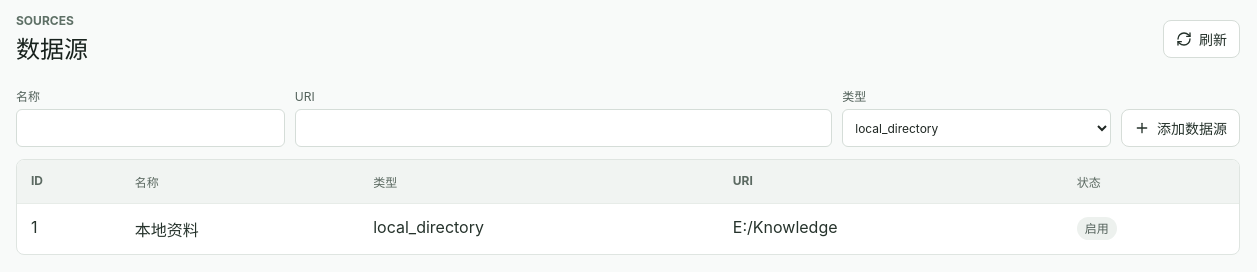
SourcesView 数据源页 › 加载真实数据源，并允许创建新的本地数据源
Expected: the text "本地资料" is shown, [121,204,359,254]
Type "Obsidian" into the field labelled "名称" at (150,128), box [16,109,285,147]
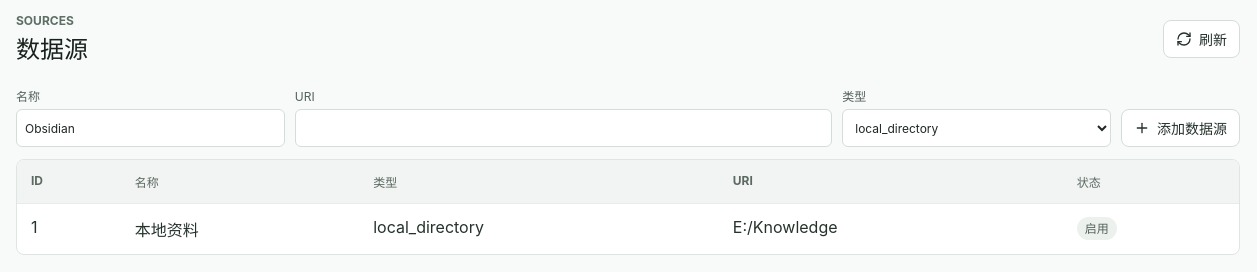
Type "E:/Vault" into the field labelled "URI" at (564,128), box [295,109,832,147]
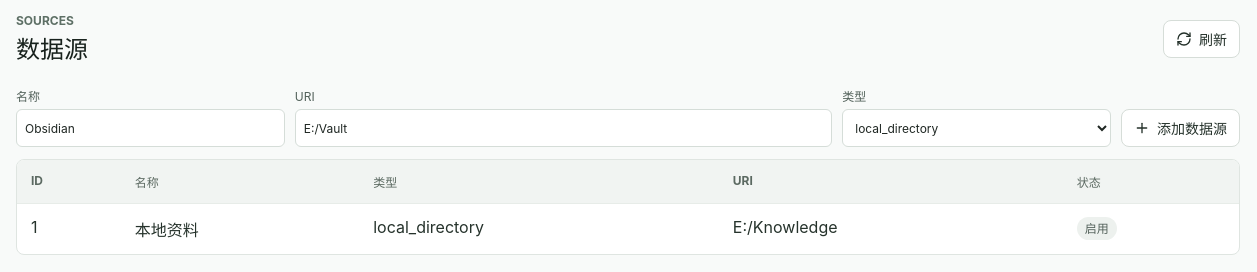
Select "obsidian_vault" in the dropdown labelled "类型" at (977,128), box [842,109,1111,147]
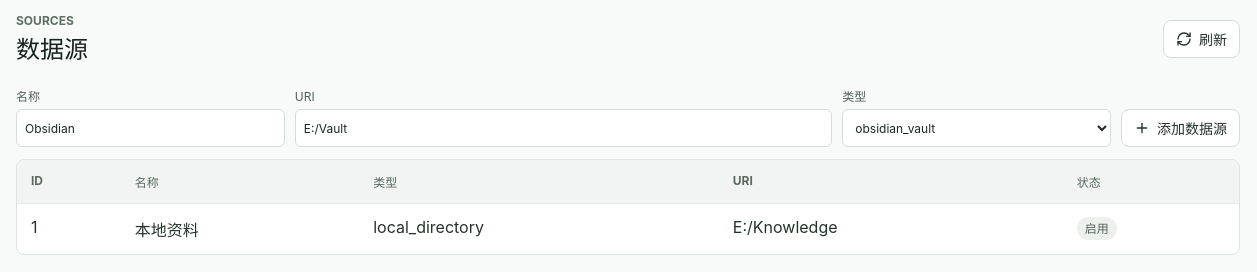
Click the button "添加数据源" at (1180,128), box [1121,109,1240,147]
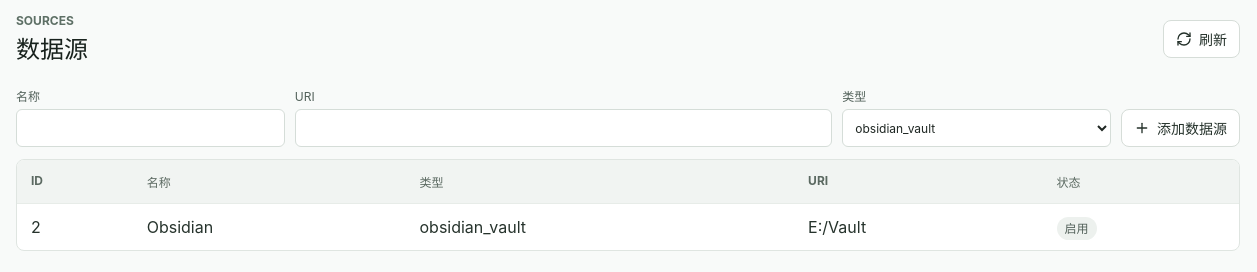
Now the text "Obsidian" is shown, box [133,204,406,250]
